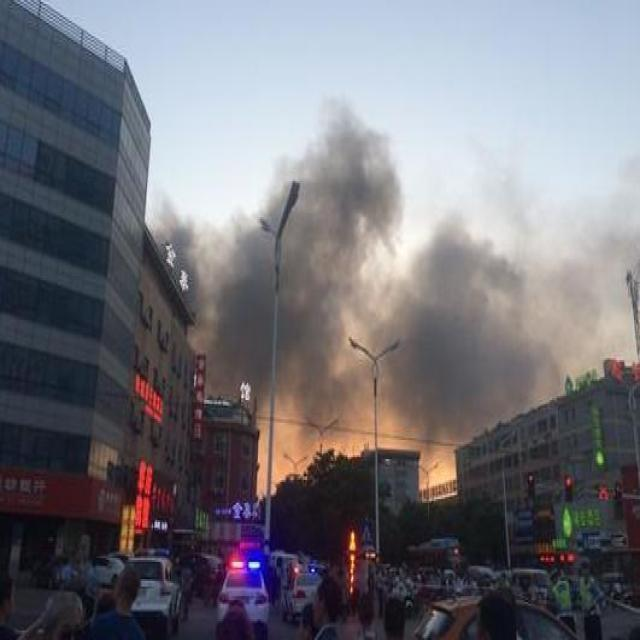Smoke: (297, 143, 640, 451), (176, 86, 414, 416)
